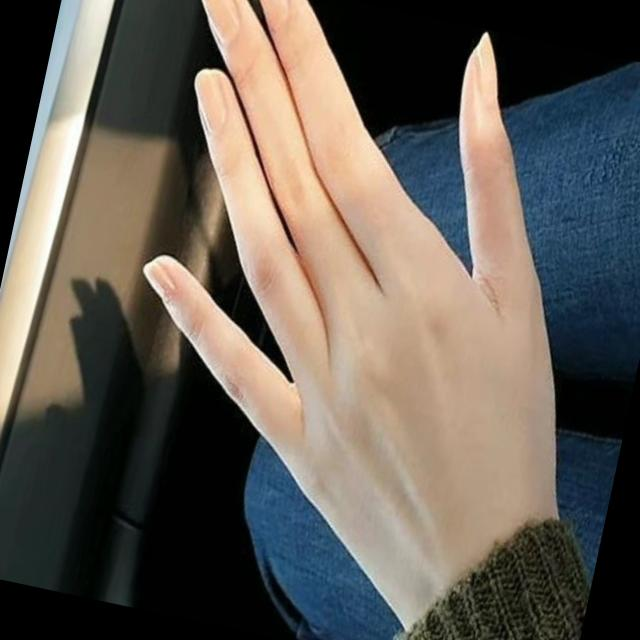Nail: (194, 68, 226, 133), (202, 0, 240, 49), (475, 30, 497, 107), (142, 260, 176, 304), (264, 0, 289, 29)
